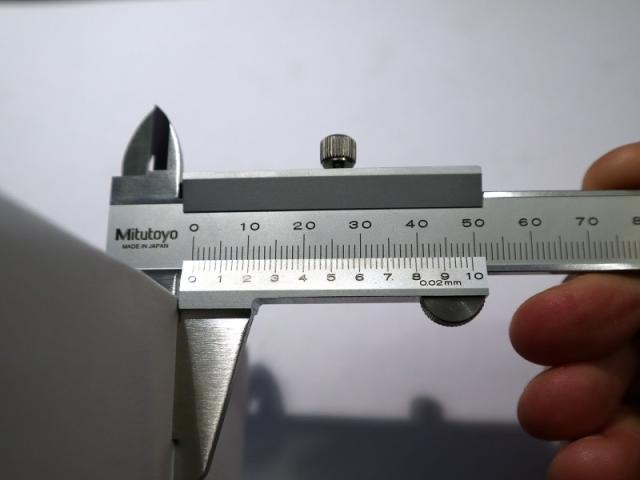Calipers: (106, 108, 640, 478)
